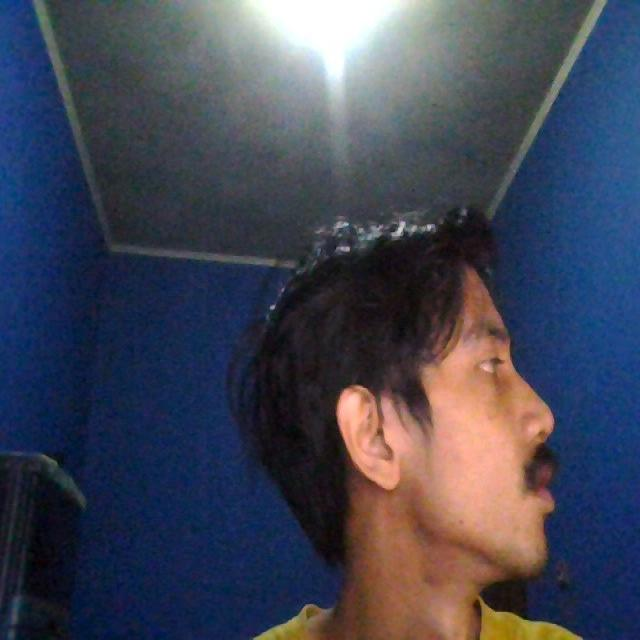melihat kekiri: (188, 218, 562, 582)
